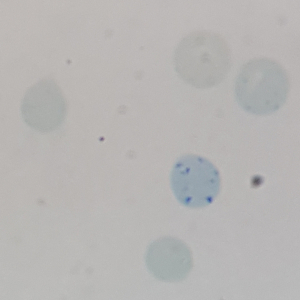aggregate reticulocyte: (169, 153, 222, 208)
erythrocyte: (172, 28, 232, 90), (19, 76, 68, 136), (143, 236, 195, 286)
punctate reticulocyte: (233, 56, 291, 116)
